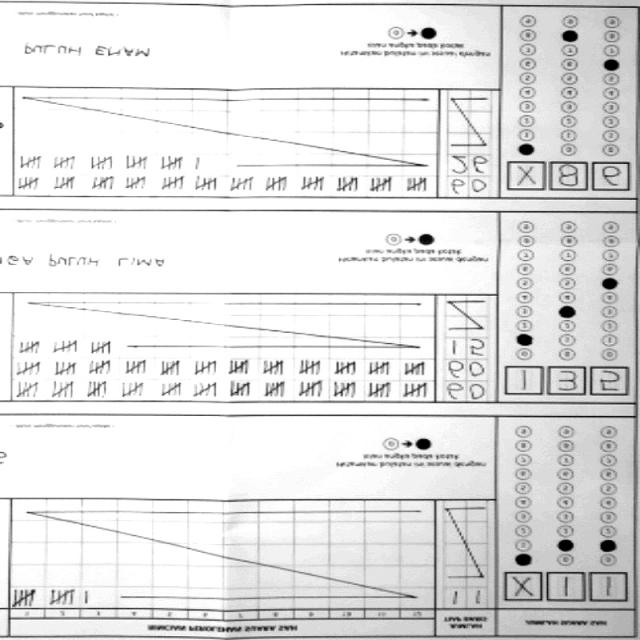Suara: (501, 569, 628, 610), (500, 362, 630, 402), (501, 160, 632, 194)
